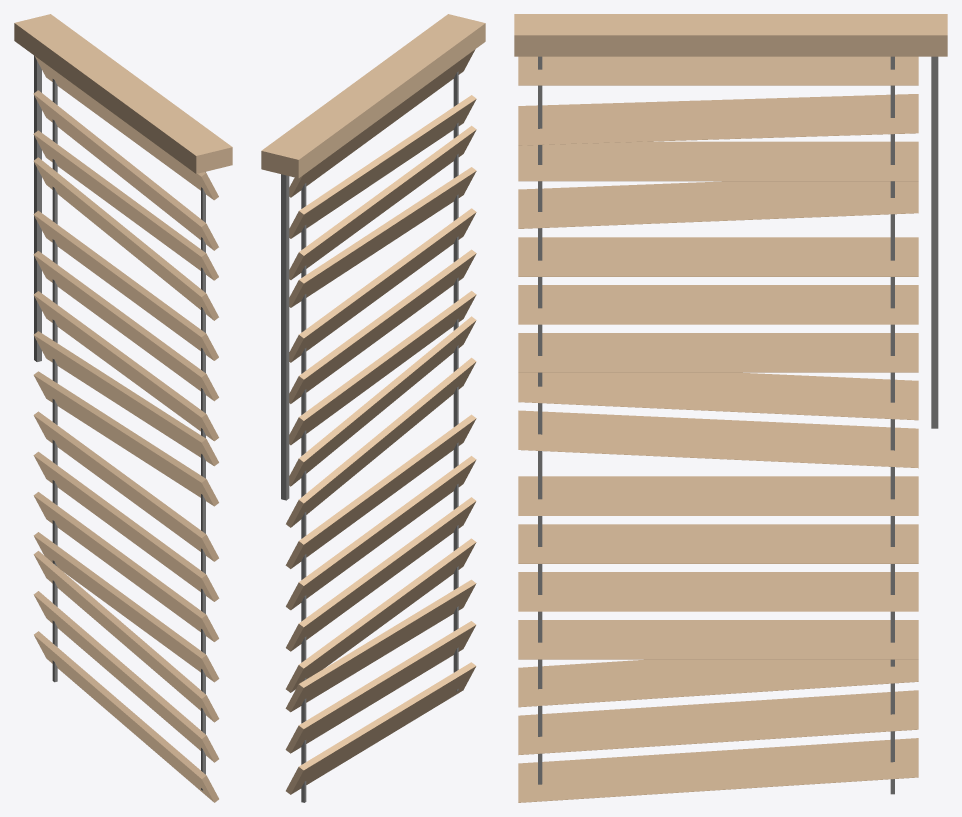
File: roll2.fbx
The picture shows the model from 3 angles, left to right: view 1: azimuth 30°, elevation 25°; view 2: azimuth 150°, elevation 25°; view 3: azimuth 270°, elevation 25°; orthographic projection. The views are drawn at different scales.
Parts seen in each view (by area): view 1: roll2; view 2: roll2; view 3: roll2.
Part boxes in pixels (left/top/right/bottom): roll2: left=14, top=14, right=232, bottom=802; roll2: left=261, top=14, right=485, bottom=802; roll2: left=514, top=14, right=947, bottom=802.
Size of the model in its own units: 5.51 by 94.43 by 47.68.
